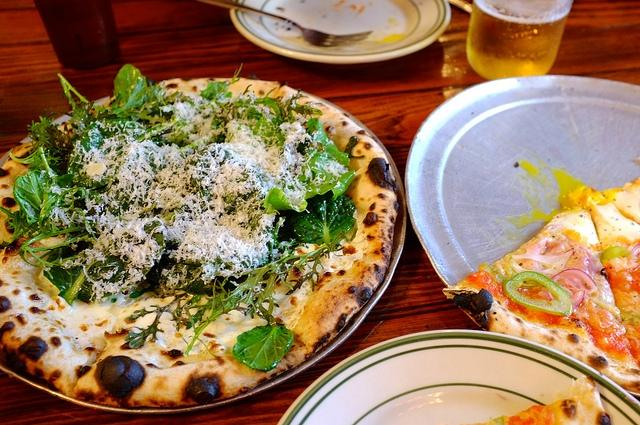onion: (512, 238, 574, 278), (550, 269, 598, 291), (561, 233, 596, 262), (548, 290, 586, 307), (566, 275, 593, 295), (562, 277, 577, 288), (632, 245, 640, 259)
